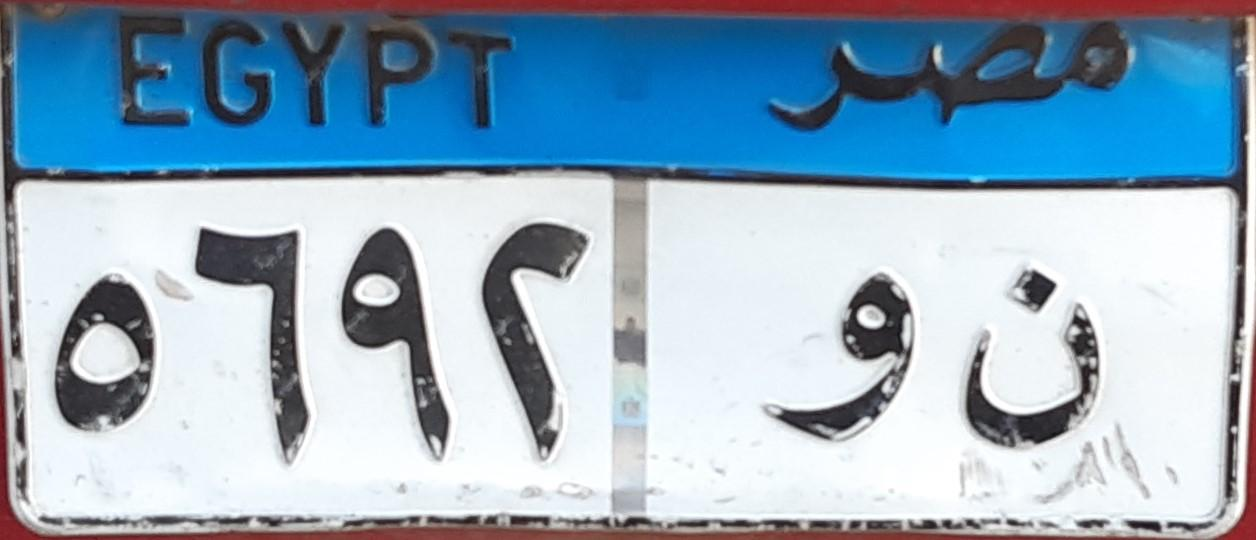2: (475, 213, 595, 465)
5: (45, 265, 170, 445)
6: (185, 217, 313, 468)
9: (335, 213, 458, 465)
noon: (943, 260, 1115, 452)
waw: (755, 268, 925, 455)
